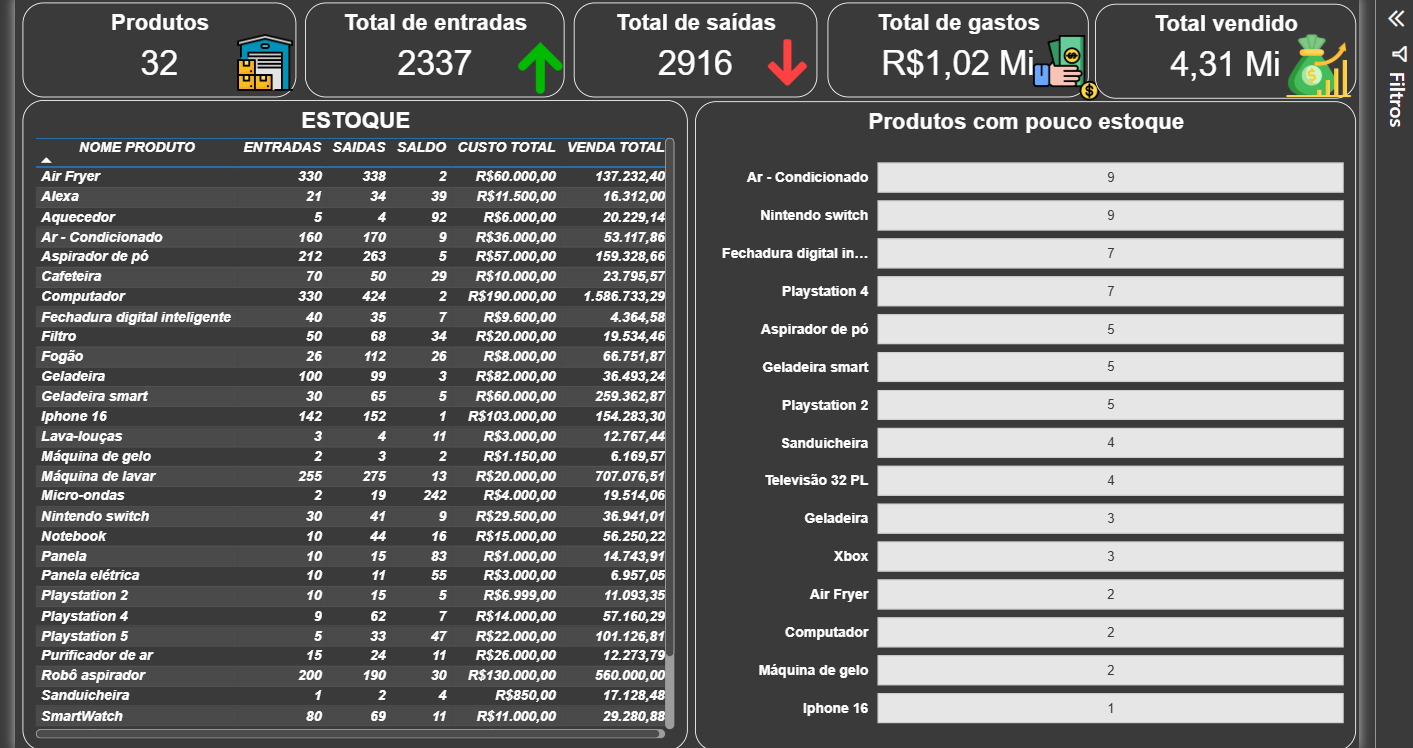

The page's visual inventory and layout, read from the dashboard file:
{"tool":"powerbi","page":{"name":"Estoque e Movimentações","canvas":[1280,720],"ordinal":0},"visuals":[{"type":"card","title":"Produtos","fields":{"Values":["CountNonNull(ESTOQUE.NOME PRODUTO)"]},"box":[7.2,7.2,260.6,90.5],"z":2000},{"type":"card","title":"Total de entradas","fields":{"Values":["Sum(ESTOQUE.ENTRADAS)"]},"box":[276.3,7.2,247.3,90.5],"z":3000},{"type":"card","title":"Total de saídas","fields":{"Values":["Sum(ESTOQUE.SAIDAS)"]},"box":[532,7.2,231.6,90.5],"z":4000},{"type":"card","title":"Total de gastos","fields":{"Values":["Sum(ESTOQUE.CUSTO TOTAL)"]},"box":[773.3,7.2,248.5,90.5],"z":5000},{"type":"tableEx","title":"ESTOQUE","fields":{"Values":["ESTOQUE.NOME PRODUTO","ESTOQUE.ENTRADAS","ESTOQUE.SAIDAS","ESTOQUE.SALDO","ESTOQUE.CUSTO TOTAL","ESTOQUE.VENDA TOTAL"]},"box":[7.1,100,633.3,620.2],"z":6000},{"type":"hundredPercentStackedBarChart","title":"Produtos com pouco estoque","fields":{"Category":["ESTOQUE.NOME PRODUTO"],"Y":["MOVIMENTAÇÕES.Estoque < 10"]},"box":[647.6,101.2,629.8,619.1],"z":8000},{"type":"image","box":[211.1,18.1,56.7,94.1],"z":10000},{"type":"image","box":[468.1,29,63.9,82],"z":11000},{"type":"image","box":[697.3,24.1,76,80.8],"z":12000},{"type":"image","box":[962.7,38.6,76,62.7],"z":13000},{"type":"card","title":"Total vendido","fields":{"Values":["Sum(ESTOQUE.VENDA TOTAL)"]},"box":[1029.1,8.4,248.5,90.5],"z":14001},{"type":"image","box":[1205.2,35,72.4,65.1],"z":14002}]}

Visuals, with their boxes on the page's 1280x720 design canvas (x1, y1, x2, y2). These are canvas units, not pixel positions in the 1413x748 screenshot, which may show the page scaled, cropped or inside an application window:
"Produtos" card: [7,7,268,98]
"Total de entradas" card: [276,7,524,98]
"Total de saídas" card: [532,7,764,98]
"Total de gastos" card: [773,7,1022,98]
"ESTOQUE" tableEx: [7,100,640,720]
"Produtos com pouco estoque" hundredPercentStackedBarChart: [648,101,1277,720]
image: [211,18,268,112]
image: [468,29,532,111]
image: [697,24,773,105]
image: [963,39,1039,101]
"Total vendido" card: [1029,8,1278,99]
image: [1205,35,1278,100]
